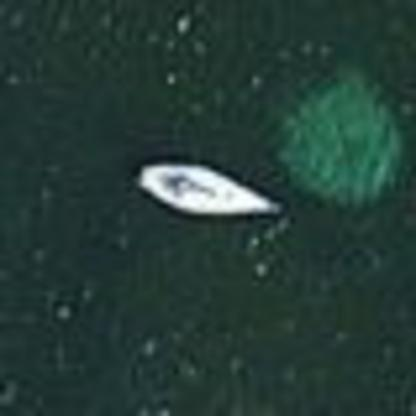ship: (127, 151, 291, 235)
